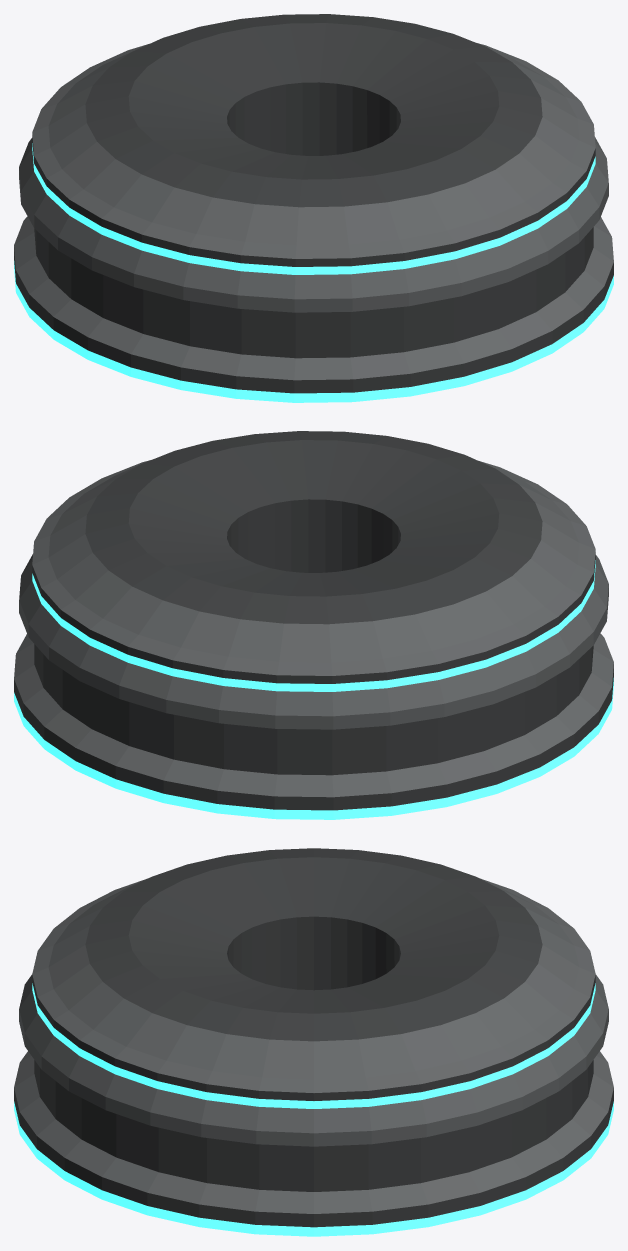
File: Spacestation_1_-_Part_4_LODGroup.fbx
3 views of the same model, one above another, from view 1: azimuth 30°, elevation 25°; view 2: azimuth 150°, elevation 25°; view 3: azimuth 270°, elevation 25° (orthographic).
Visible parts, largest first — view 1: SpaceStation 1 - Part 4_LOD0; view 2: SpaceStation 1 - Part 4_LOD0; view 3: SpaceStation 1 - Part 4_LOD0.
Boxes of the visible parts, x1=… form: SpaceStation 1 - Part 4_LOD0: x1=14, y1=14, x2=613, y2=402; SpaceStation 1 - Part 4_LOD0: x1=14, y1=431, x2=613, y2=819; SpaceStation 1 - Part 4_LOD0: x1=14, y1=848, x2=613, y2=1236.
Size of what is drawn, in the model's own units: 1046 by 343 by 1046.
